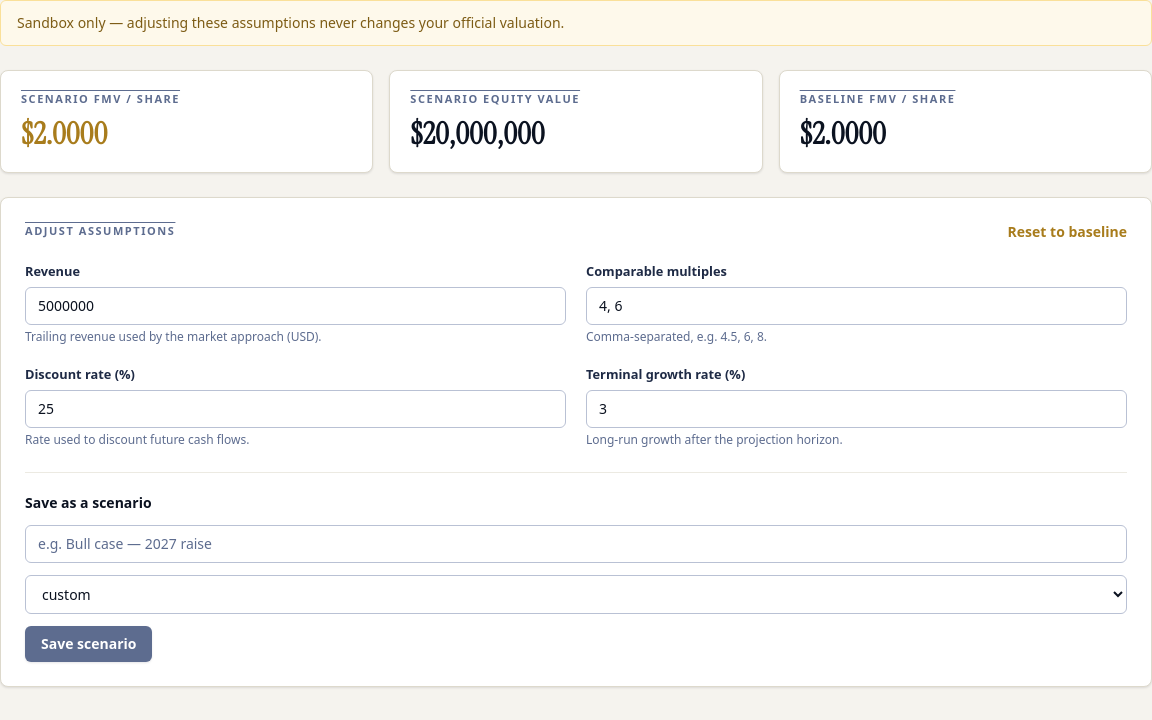
Test: ScenariosTab — failures › surfaces a save failure next to the save box
Type "Bull case" into the field named "Scenario name" at (576, 544), box [25,525,1127,563]
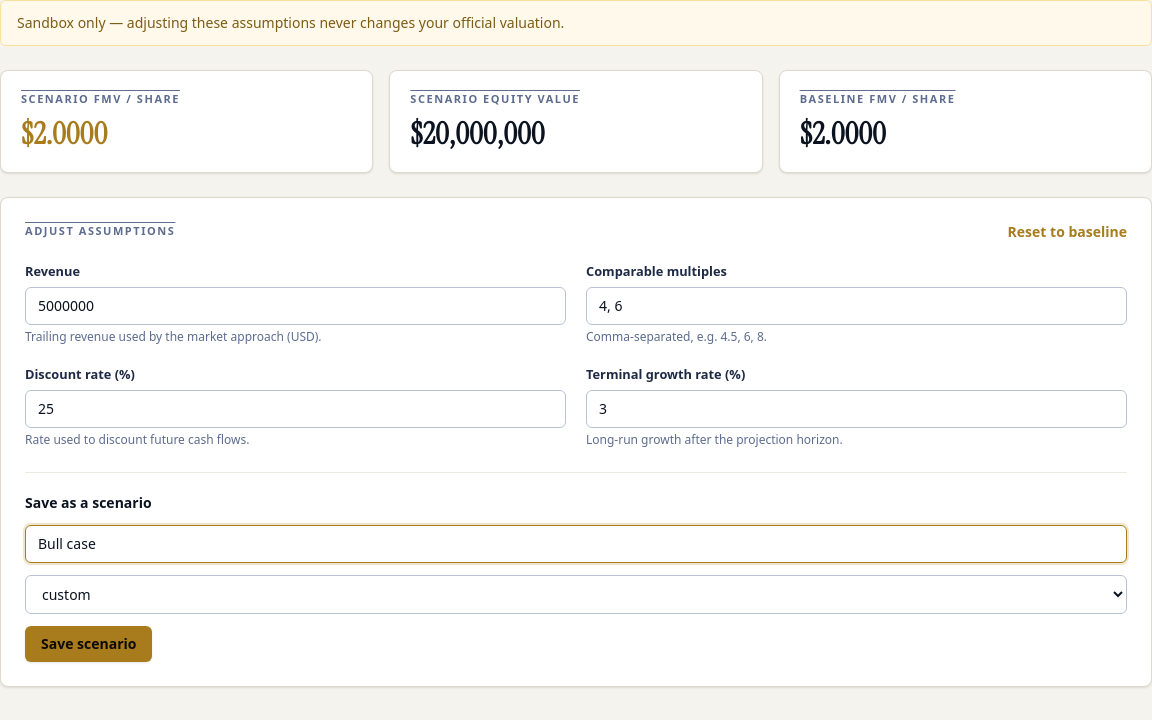
Click the button "Save scenario" at (89, 644), box [25,626,152,662]
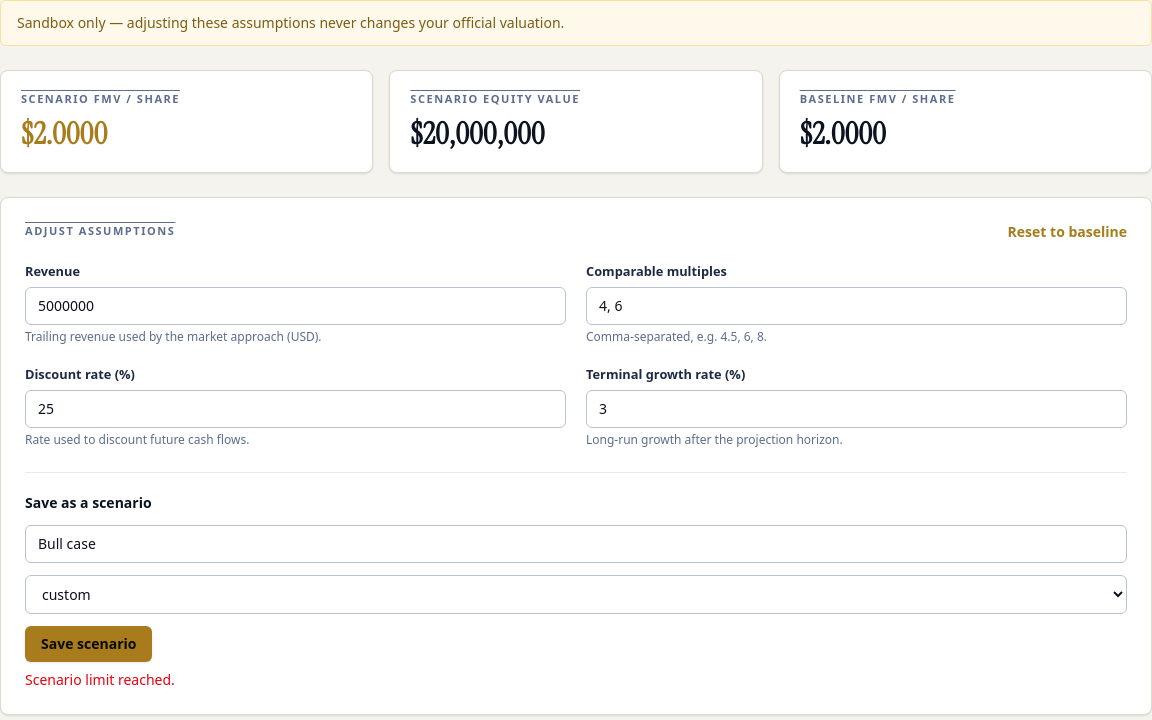
Check: the message reads "Scenario limit reached.", box [25,670,175,689]
